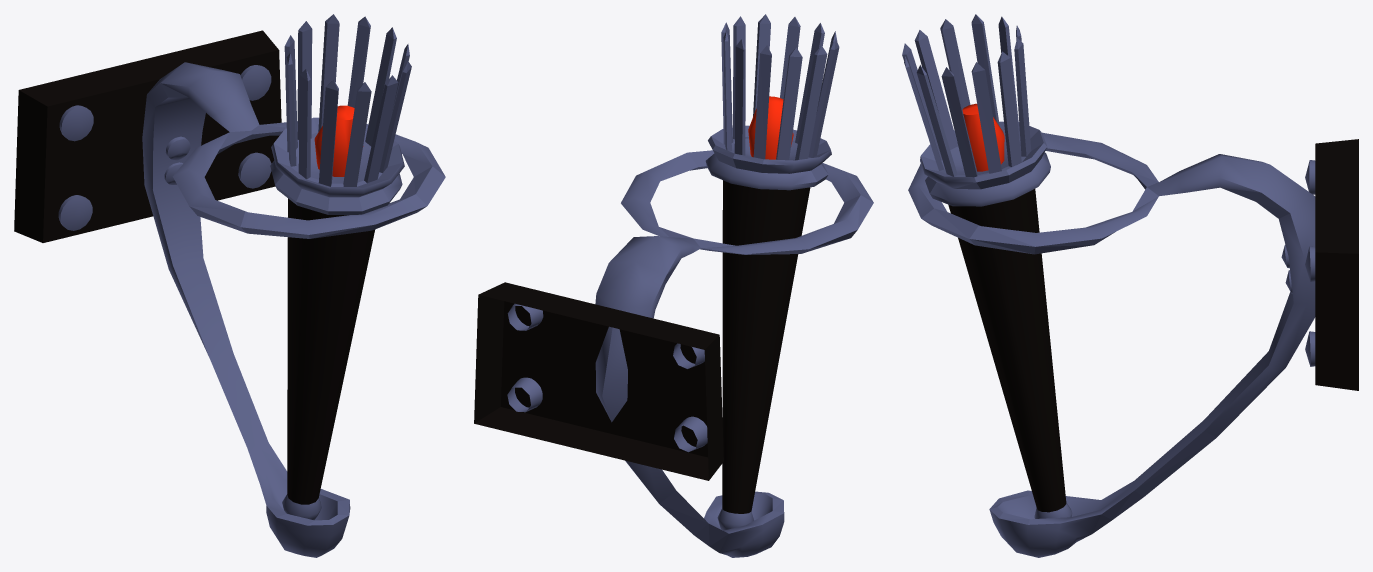
The model's file is TorchWall_5.fbx.
3 views of the same model, side by side, from view 1: azimuth 30°, elevation 25°; view 2: azimuth 150°, elevation 25°; view 3: azimuth 270°, elevation 25° (orthographic). The views are drawn at different scales.
Parts seen in each view (by area): view 1: TorchWall_5; view 2: TorchWall_5; view 3: TorchWall_5.
Boxes of the visible parts, x1,y1,x2,y2 form: TorchWall_5: (14, 14, 445, 557); TorchWall_5: (474, 14, 873, 557); TorchWall_5: (902, 14, 1358, 557).
Size of the model in its own units: 21.21 by 34.39 by 43.64.
